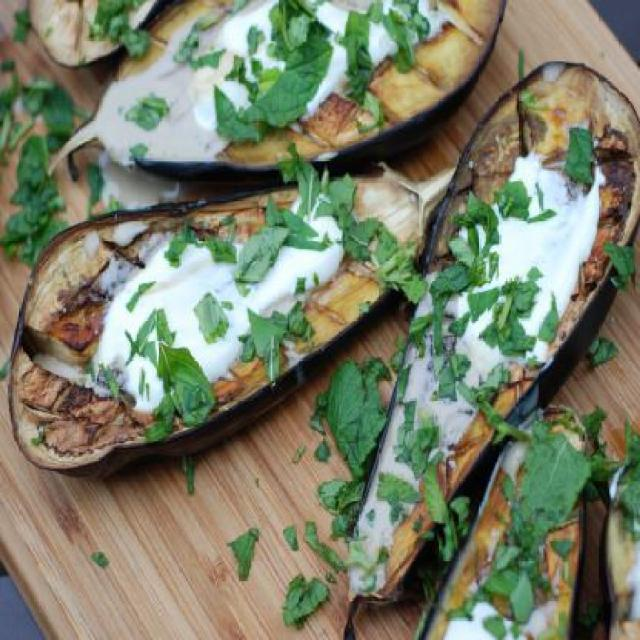hummus: (351, 148, 598, 568), (86, 191, 340, 407)
